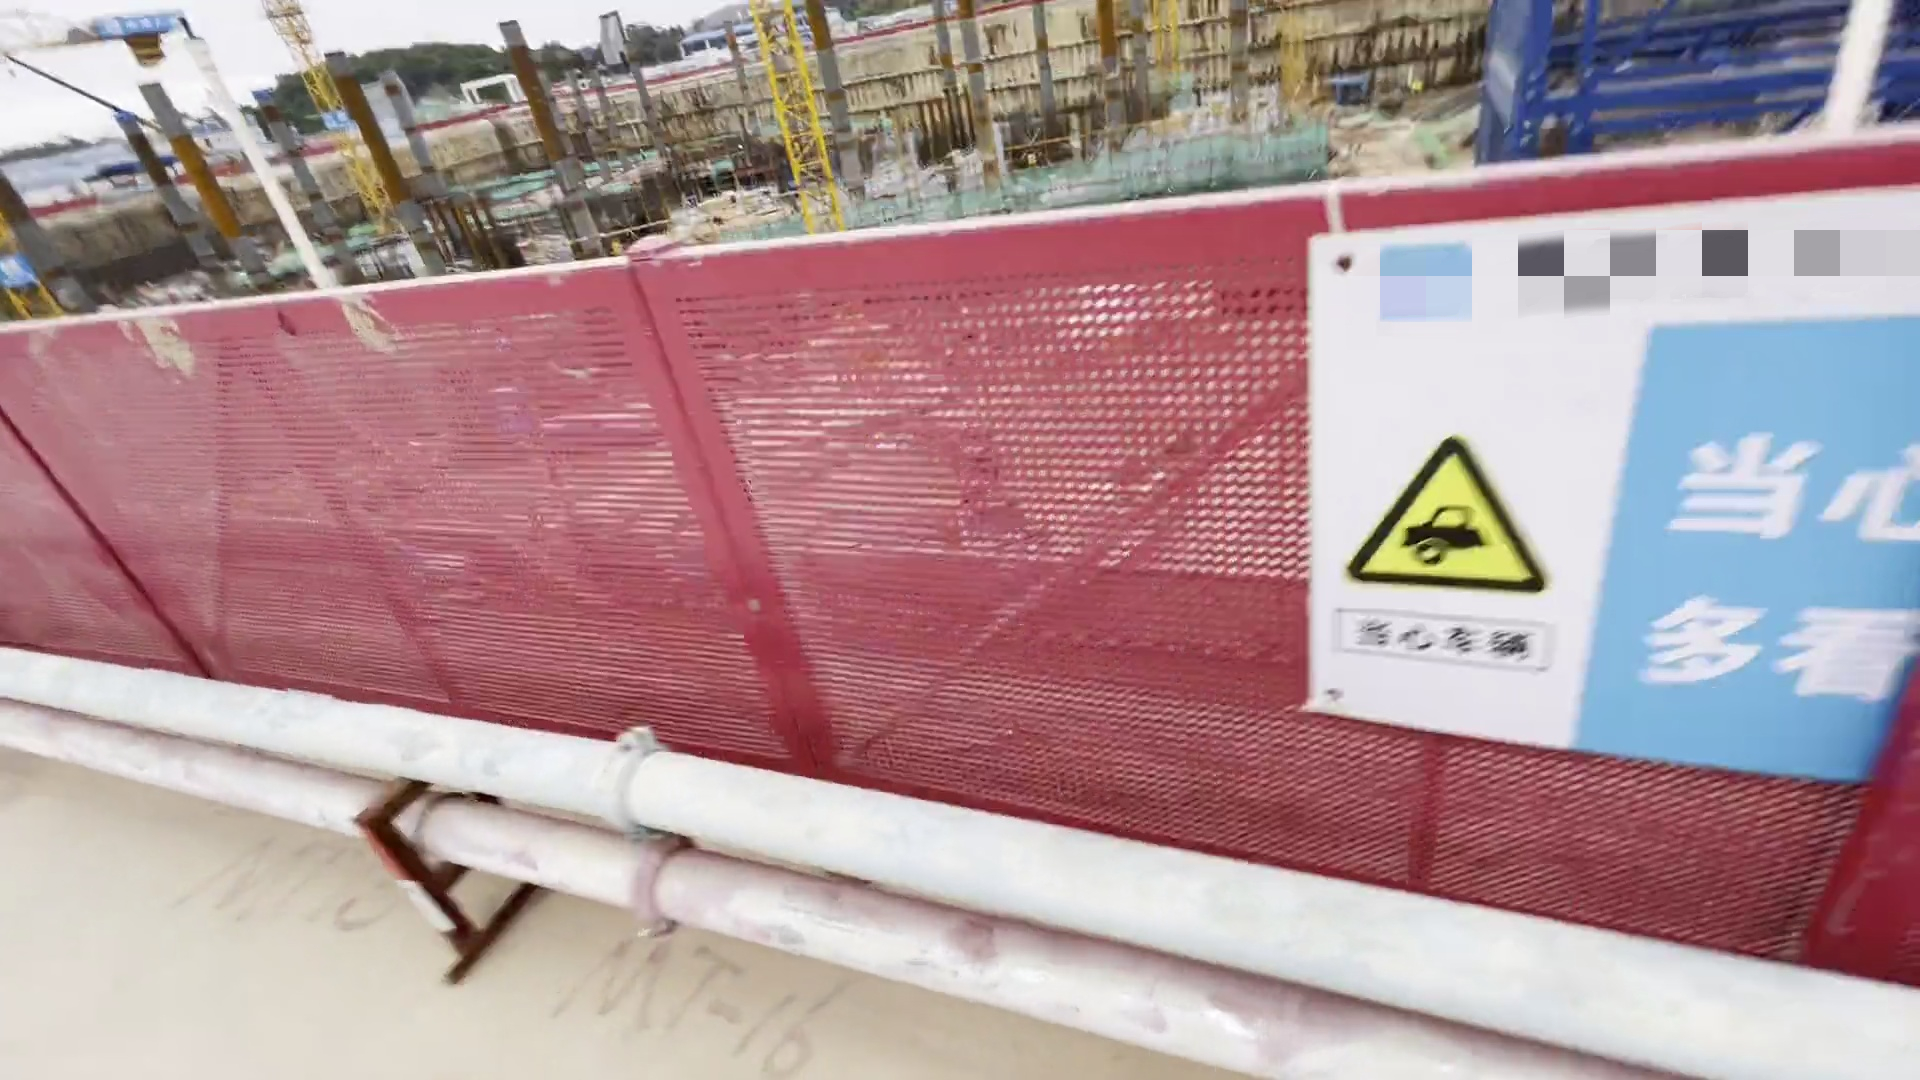fence: (1, 269, 1840, 938)
slogan: (1276, 175, 1920, 814), (95, 7, 196, 36), (1, 251, 44, 289), (313, 99, 360, 131)
